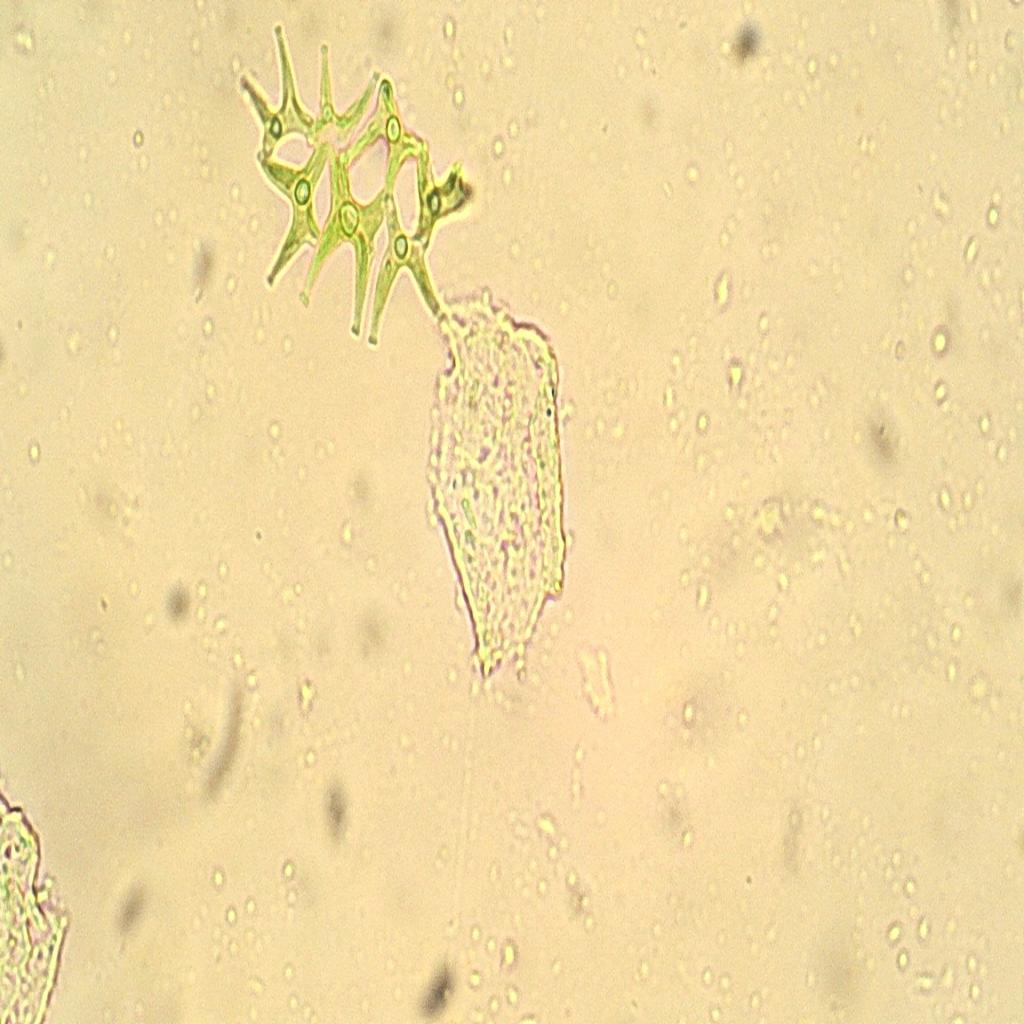Pediastrum_CFI: (215, 19, 486, 362)
